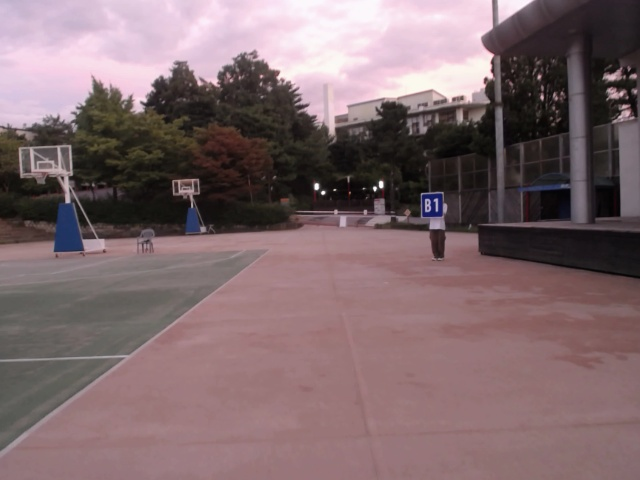delivery_b1: (420, 192, 444, 218)
